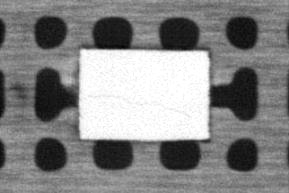DIE_CRACK: (86, 91, 196, 119)
